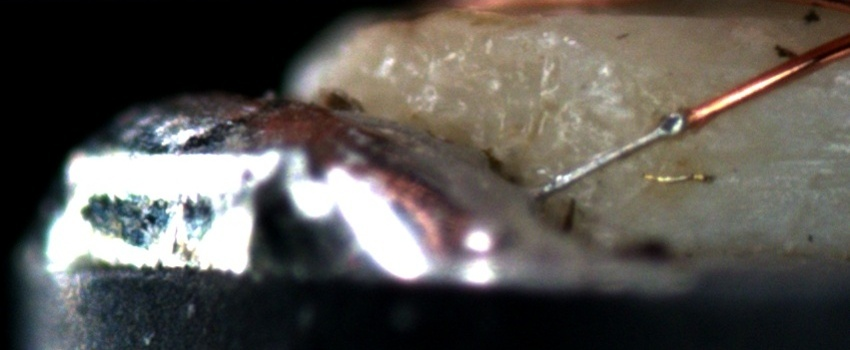TB: (655, 107, 693, 139)
TS: (538, 113, 685, 197)
TTCW: (537, 79, 757, 198)
